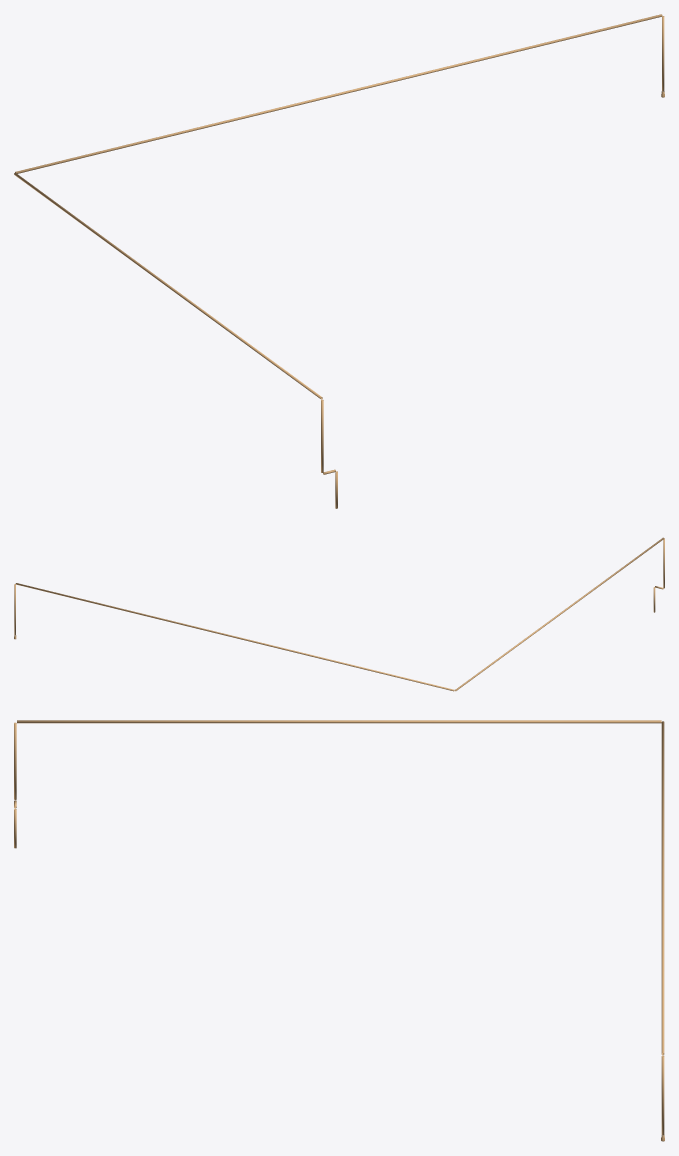
Rendered from slab_pipes_supply__water-well_and_softener-yes_and_flowsmart-yes_and_plumbing-copper__r4t.glb.
3 renders of one model, top to bottom at view 1: azimuth 30°, elevation 25°; view 2: azimuth 150°, elevation 25°; view 3: azimuth 270°, elevation 25°, orthographic. The views are drawn at different scales.
Parts seen in each view (by area): view 1: pipe_supply_well_to_softener_fs__copper; view 2: pipe_supply_well_to_softener_fs__copper; view 3: pipe_supply_well_to_softener_fs__copper.
Part boxes in pixels (x1,y1,x2,y2): pipe_supply_well_to_softener_fs__copper: [14, 14, 664, 508]; pipe_supply_well_to_softener_fs__copper: [14, 537, 664, 691]; pipe_supply_well_to_softener_fs__copper: [14, 720, 664, 1135].
Size of the model in its own units: 6.45 by 1.08 by 5.31.
